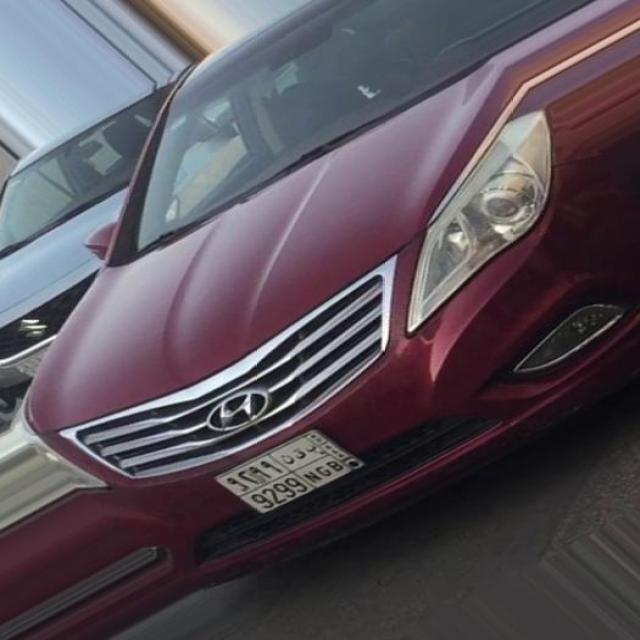Car-plate: (200, 411, 393, 531)
